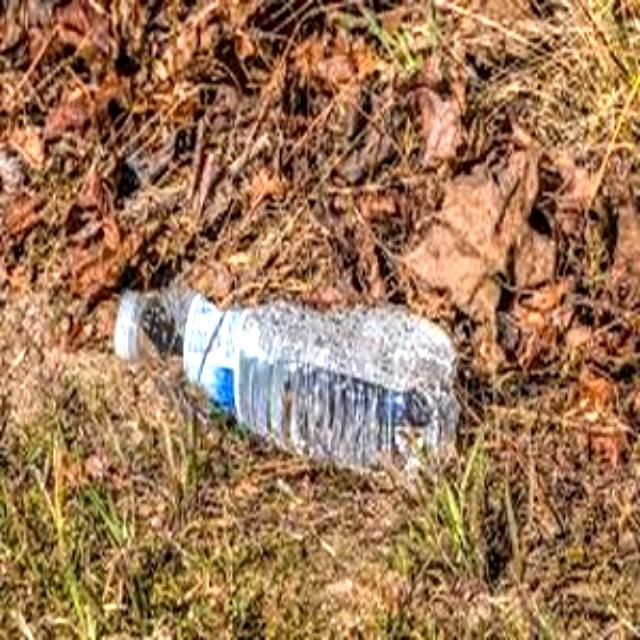Plastic: (112, 287, 460, 473)
